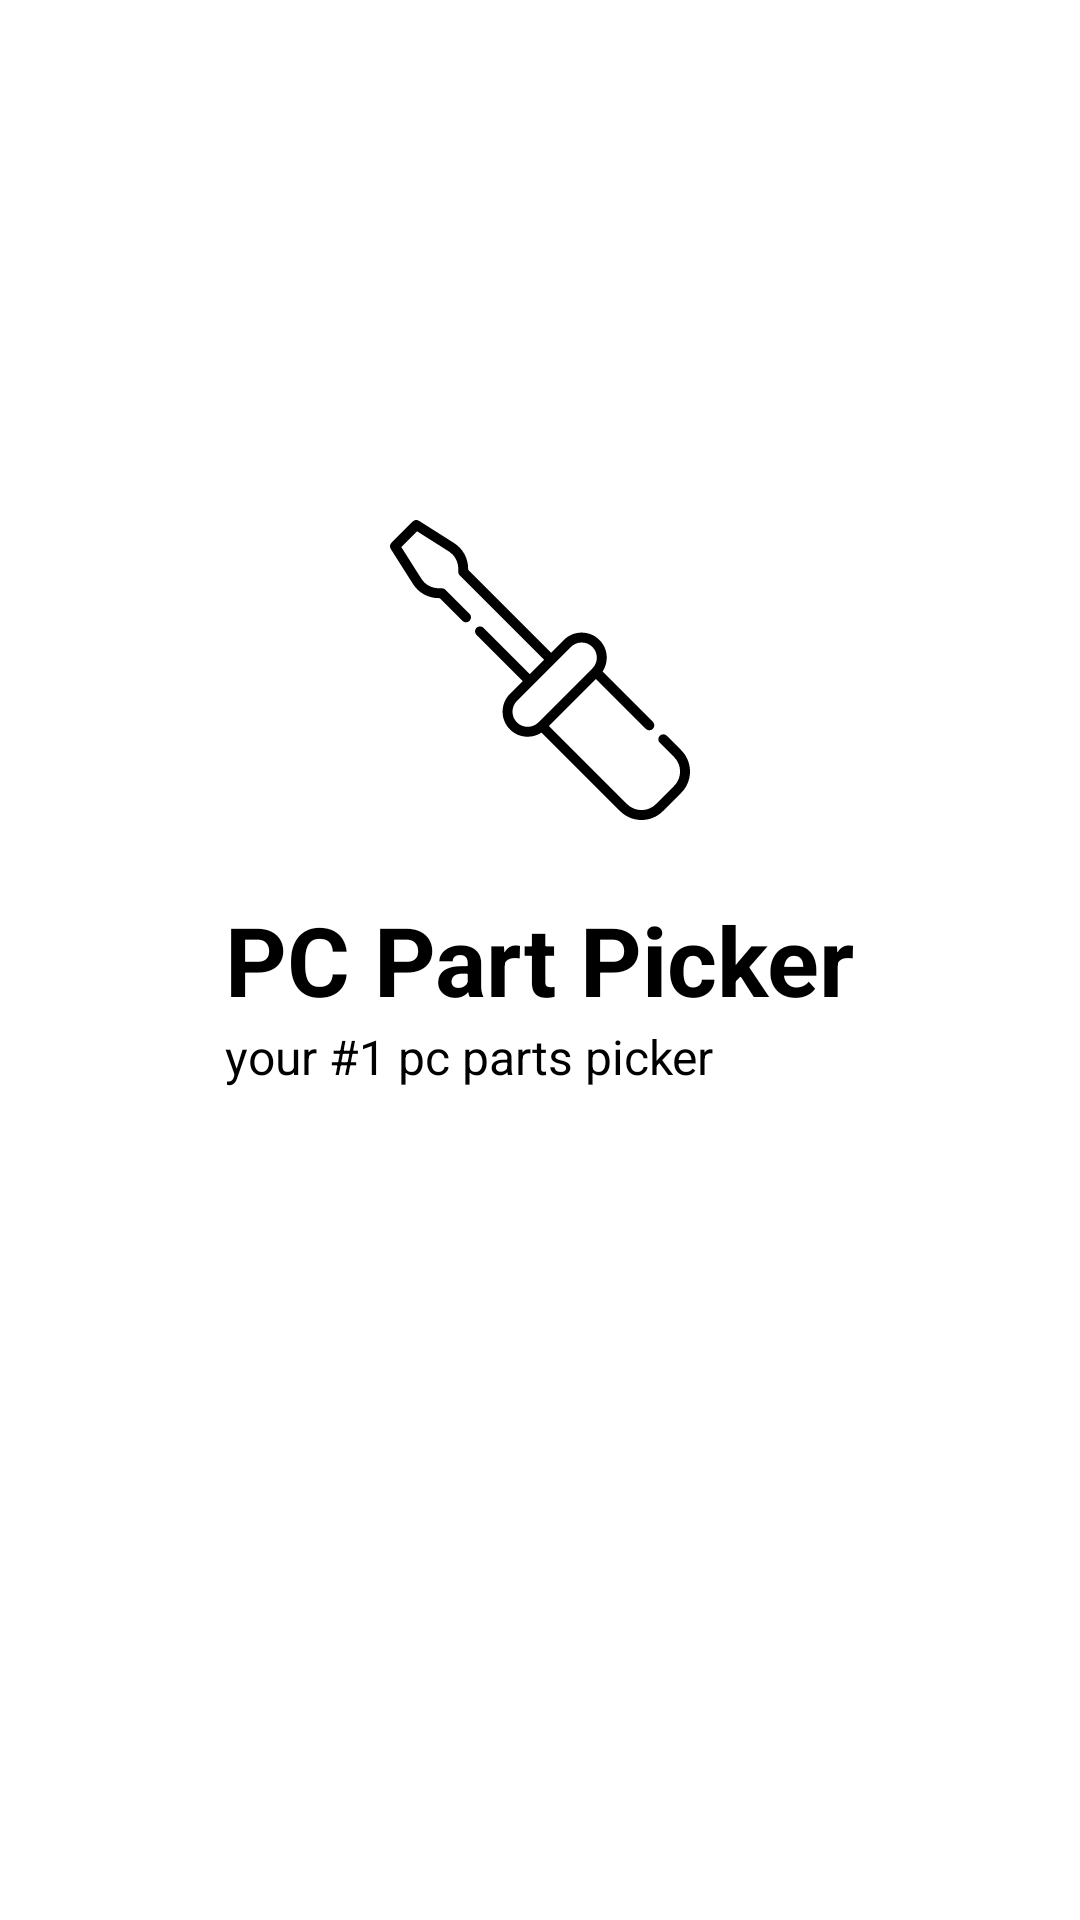

Where icons sit on this 1080w x 1920h app screen, as bbox=[x1, y1, x2, y2]:
screwdriver: bbox=[390, 520, 690, 820]
